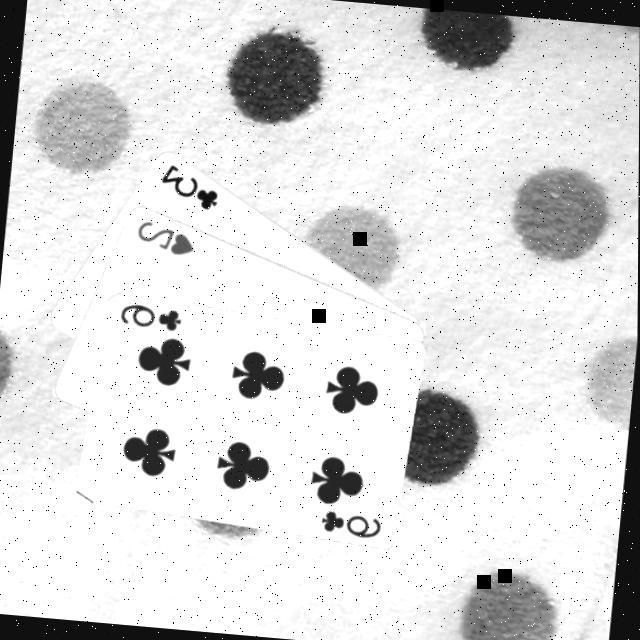2H: (130, 218, 197, 261)
3C: (153, 161, 222, 215)
6C: (114, 300, 183, 336), (314, 507, 383, 543)
